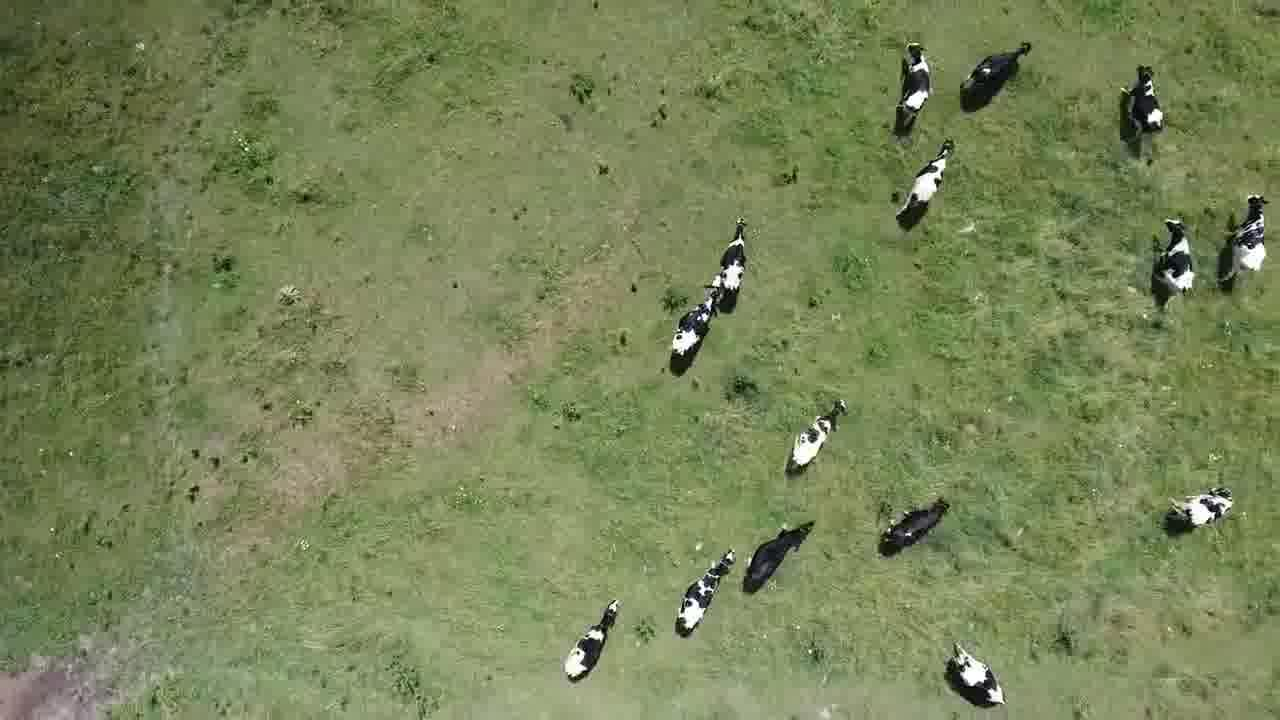cow: (672, 544, 739, 644), (892, 134, 958, 230), (957, 37, 1037, 114), (741, 519, 816, 598), (1214, 190, 1271, 293), (561, 593, 622, 685), (665, 277, 726, 368), (785, 394, 848, 478), (1148, 213, 1199, 311), (879, 496, 952, 559), (891, 35, 935, 135), (948, 638, 1009, 710), (1116, 58, 1167, 144), (1165, 483, 1238, 536), (717, 216, 751, 301)
